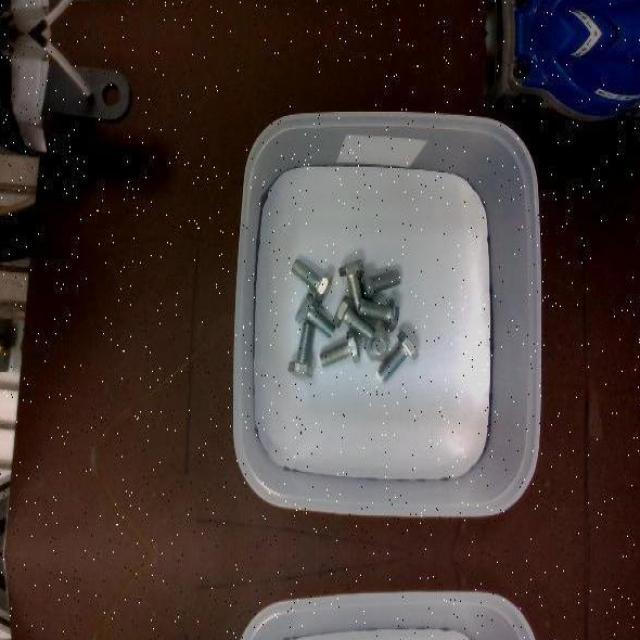screw: (374, 331, 418, 383), (333, 294, 375, 340), (294, 291, 335, 337), (291, 258, 332, 304), (319, 329, 360, 366), (288, 322, 314, 379), (357, 297, 398, 332), (359, 269, 400, 299)
